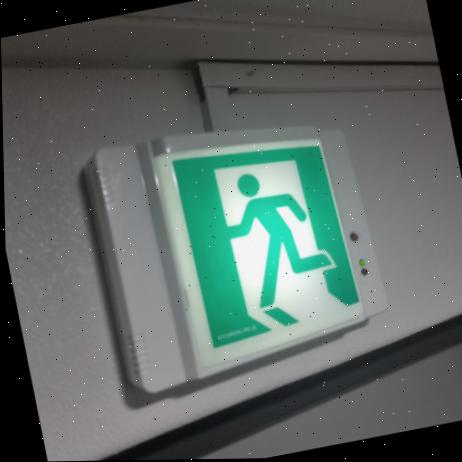emergency_exit: (145, 131, 373, 373)
